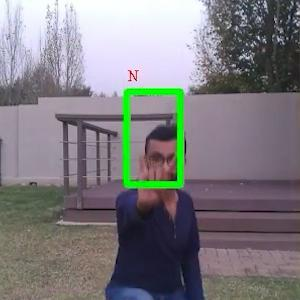takeoff-hand: (126, 150, 177, 205)
